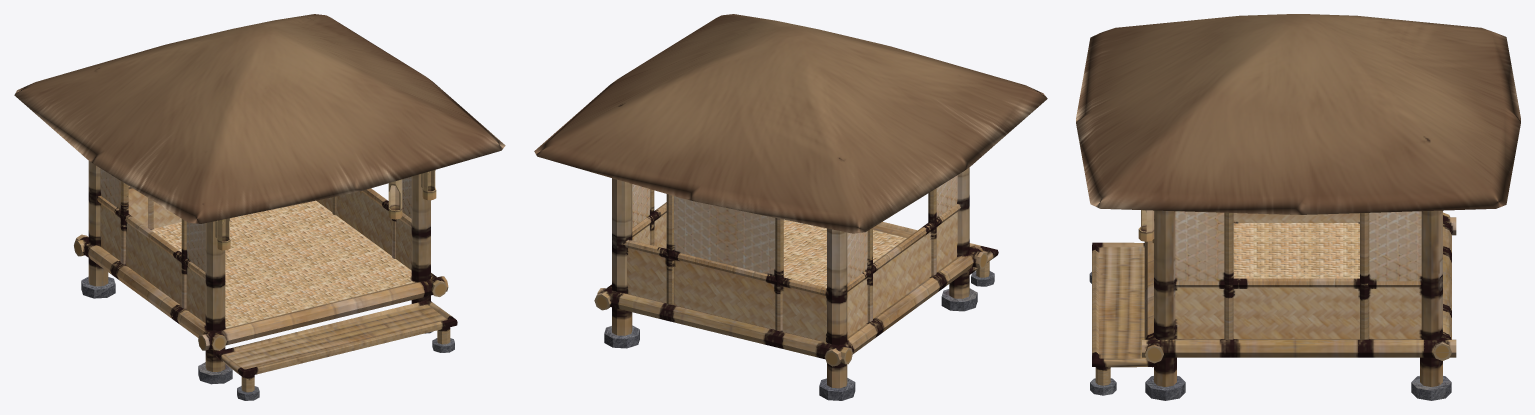
The model's file is saung.fbx.
The picture shows the model from 3 angles, left to right: view 1: azimuth 30°, elevation 25°; view 2: azimuth 150°, elevation 25°; view 3: azimuth 270°, elevation 25°; orthographic projection. The views are drawn at different scales.
Parts seen in each view (by area): view 1: Object_2; view 2: Object_2; view 3: Object_2.
Part boxes in pixels (left/top/right/bottom): Object_2: left=14, top=14, right=505, bottom=400; Object_2: left=534, top=14, right=1047, bottom=400; Object_2: left=1076, top=14, right=1520, bottom=400.
Size of the model in its own units: 1976 by 1976 by 1544.
